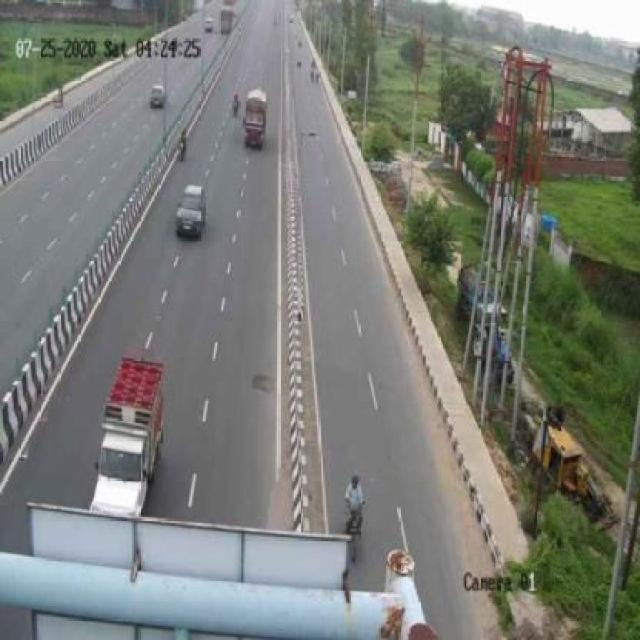car: (86, 354, 182, 517), (176, 183, 207, 239), (143, 83, 171, 114)
